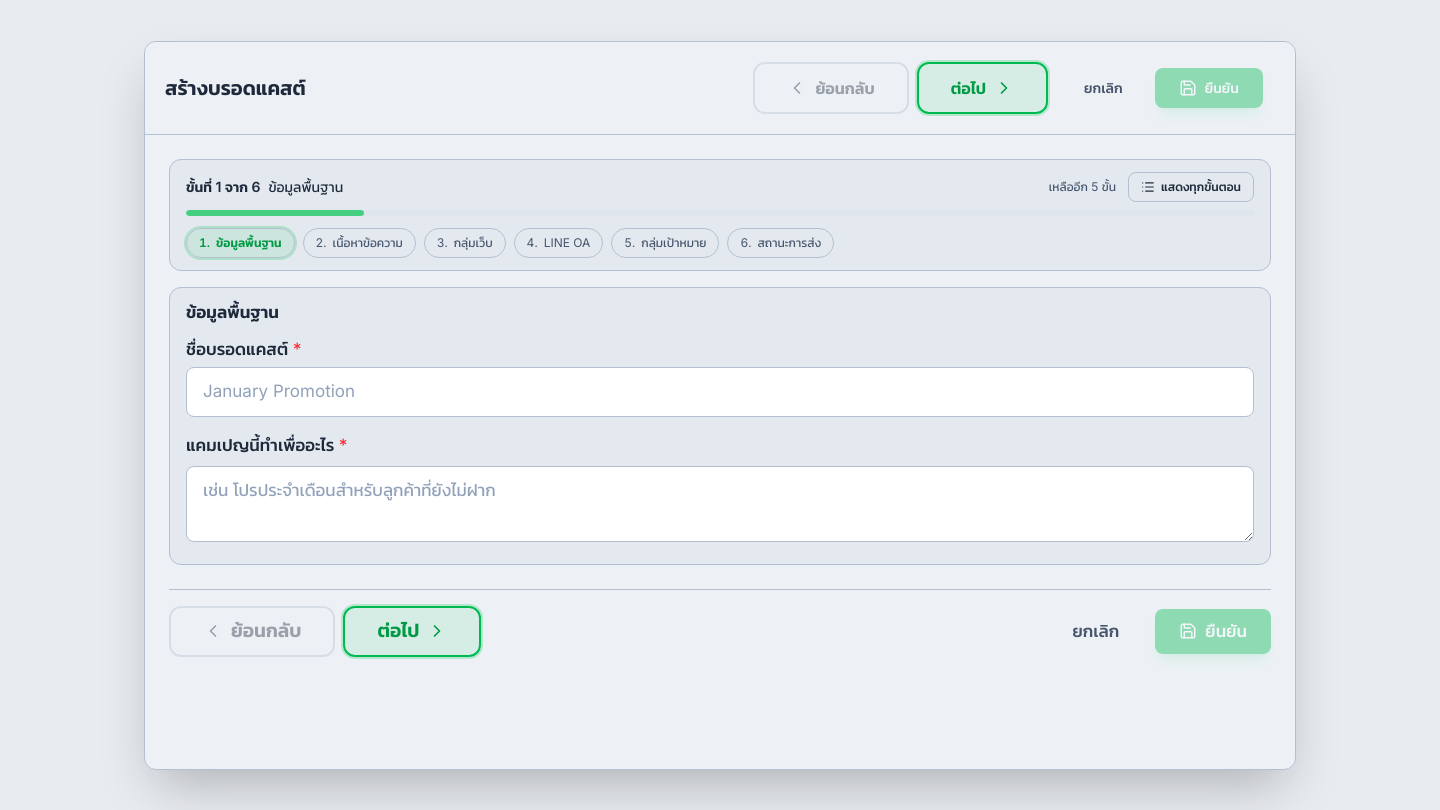
Test: [BCASTTAGFAMILIES] หน้าจอบอกว่าตัวแปรตระกูลไหนใช้ได้ › ⭐⭐ คำอธิบายใต้ช่องวิธีส่งไม่พูดแค่ครึ่งเดียวอีกแล้ว
Click the button with test id "-toggle": (1191, 186) [1128,172,1254,202]
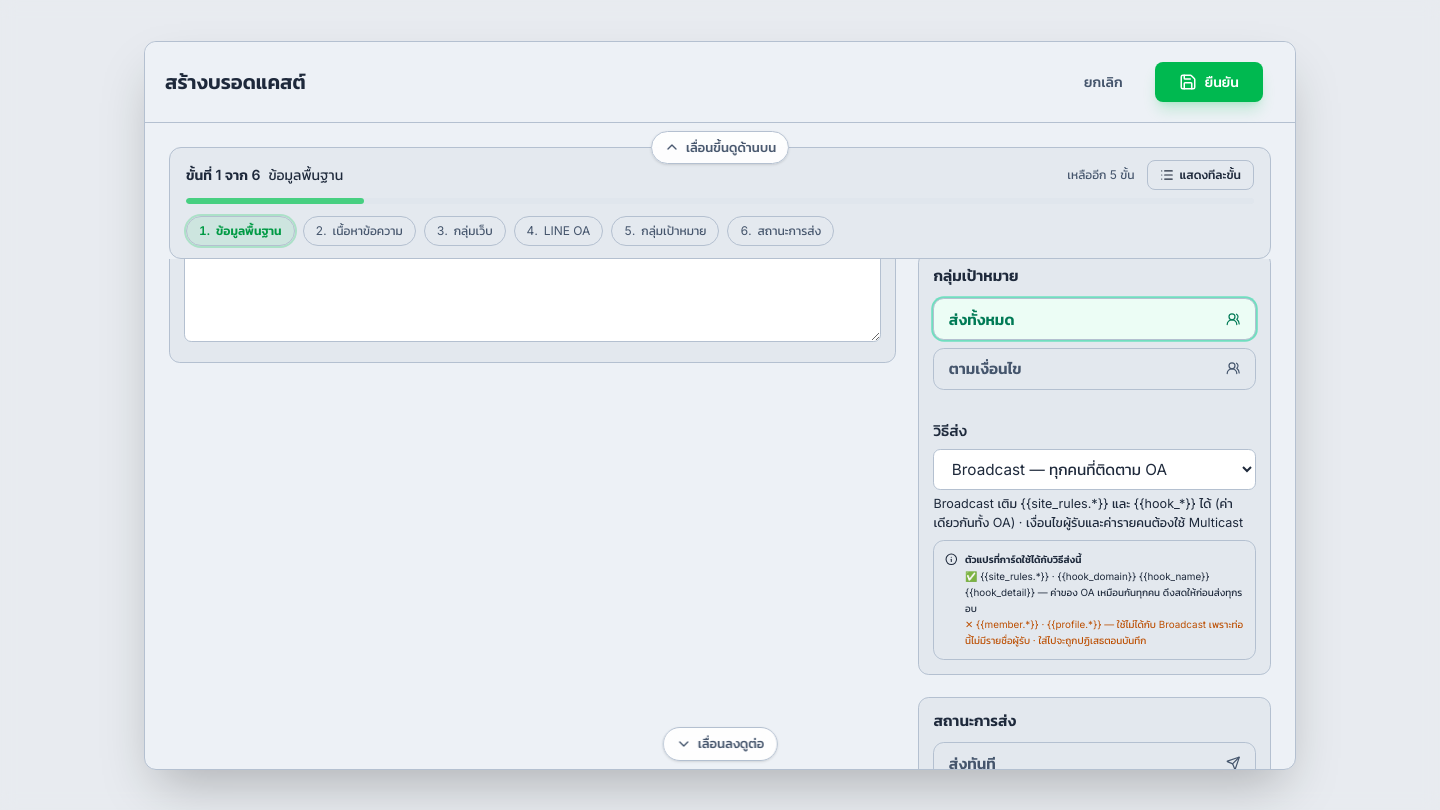
Expected: the dropdown named "send_kind" is shown, [934,449,1256,490]
Expected: the text with test id "send-kind-hint" is shown, [934,494,1256,532]
Expected: the text with test id "send-kind-hint" shows "site_rules.*", [934,496,1243,530]
